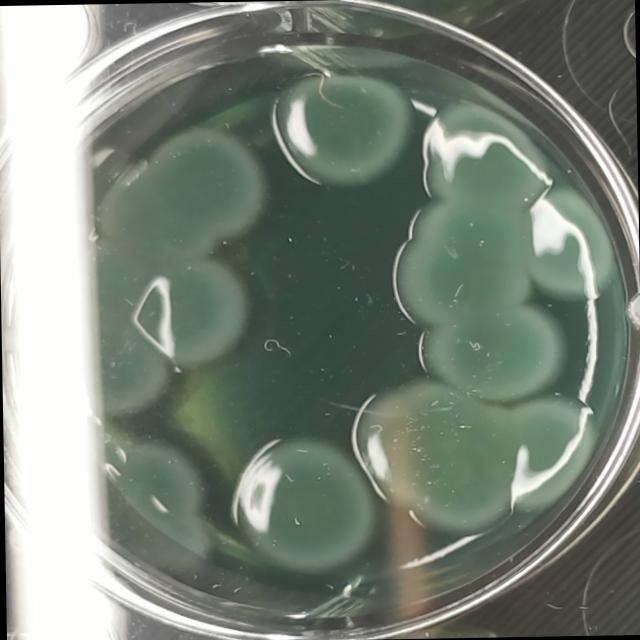vibrio: (344, 378, 597, 536), (388, 98, 552, 326), (98, 113, 286, 262), (94, 256, 257, 421), (265, 56, 417, 195), (232, 432, 382, 570), (410, 292, 566, 408), (105, 435, 218, 569), (518, 178, 618, 318), (596, 374, 602, 376)
